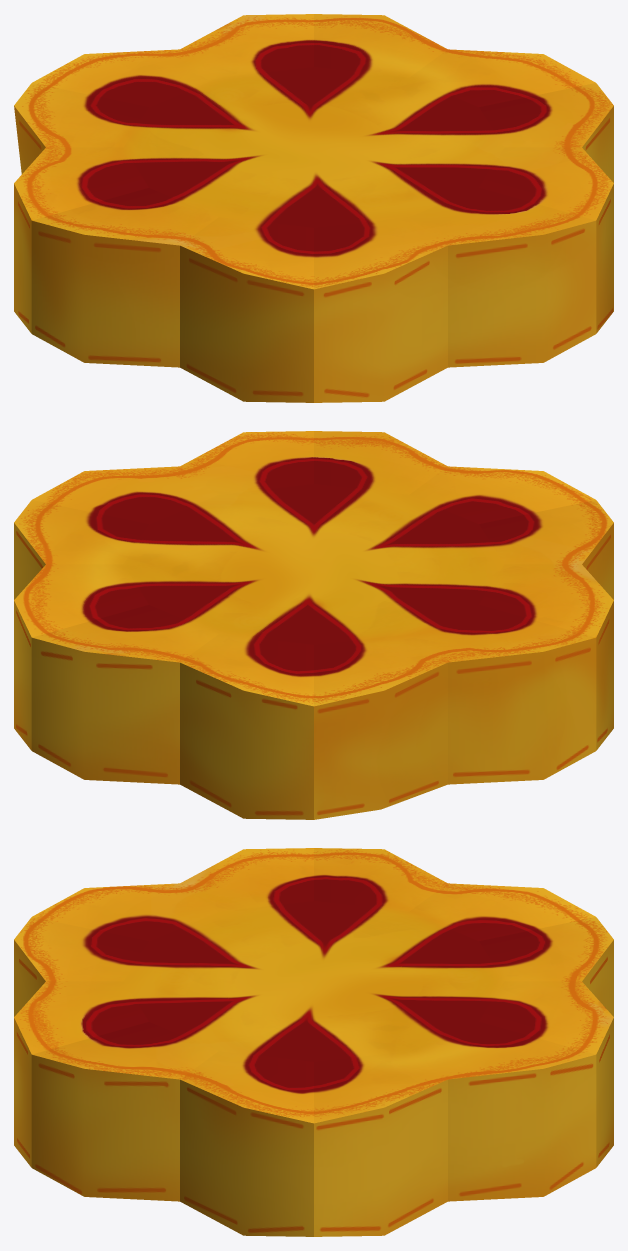
File: solterita.fbx
3 renders of one model, top to bottom at view 1: azimuth 30°, elevation 25°; view 2: azimuth 150°, elevation 25°; view 3: azimuth 270°, elevation 25°, orthographic.
Visible parts, largest first — view 1: pCylinder3; view 2: pCylinder3; view 3: pCylinder3.
Part boxes in pixels (x1,y1,x2,y2): pCylinder3: (14, 14, 613, 402); pCylinder3: (14, 431, 613, 819); pCylinder3: (14, 848, 613, 1236).
Size of the model in its own units: 33.35 by 7.23 by 30.7.
Materials: 1 (1 with a texture image).
